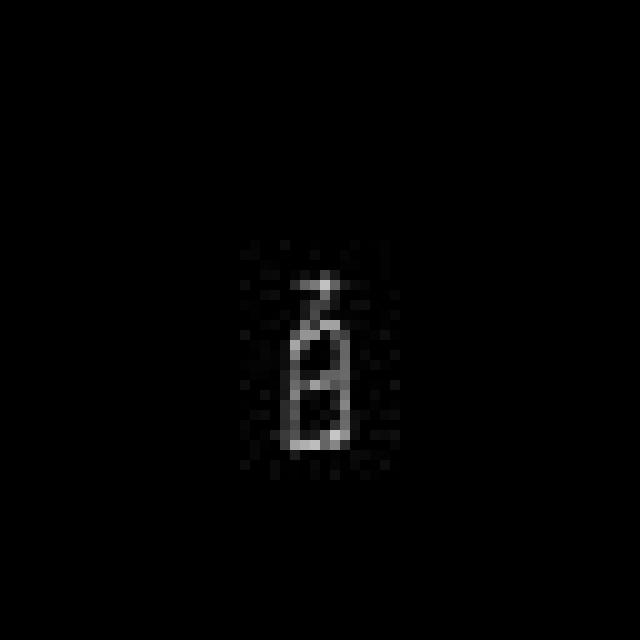100 -a hundred-: (272, 262, 364, 470)
